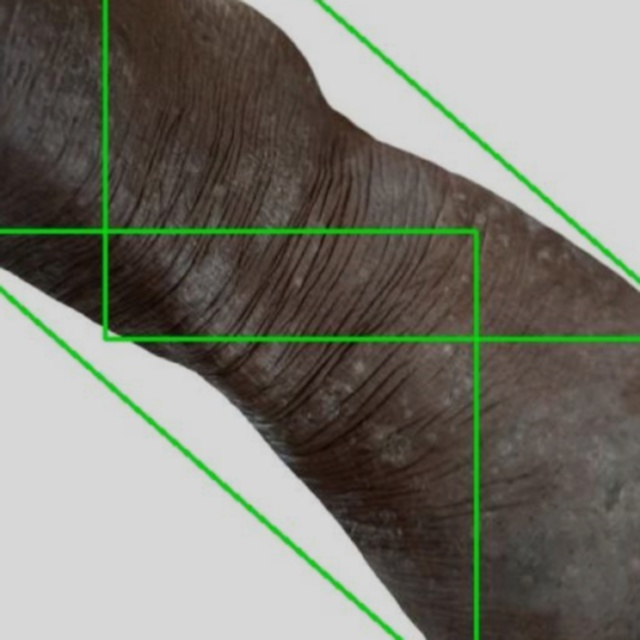Contact Dermatitis: (0, 0, 639, 639), (0, 231, 476, 639), (105, 0, 639, 338)
